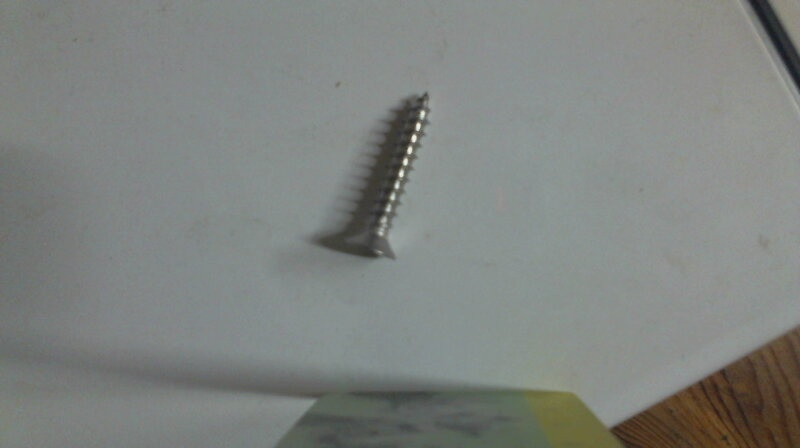S001: (346, 89, 433, 262)
